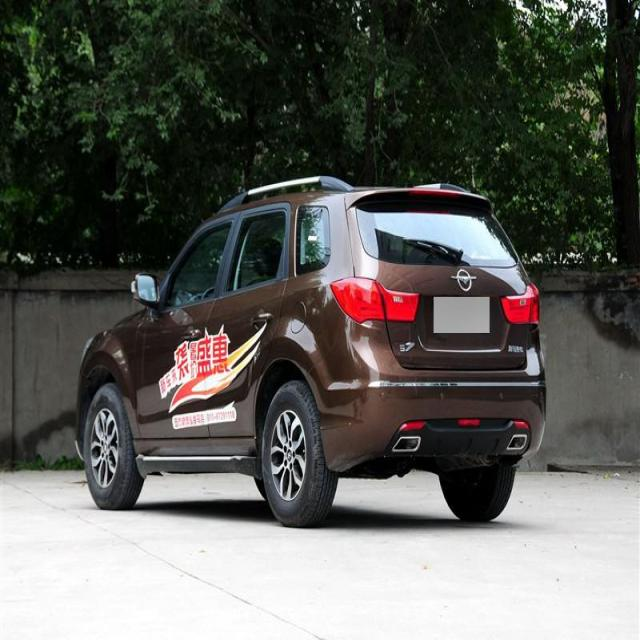back_glass: (354, 191, 520, 271)
back_left_side_light: (330, 275, 420, 325)
back_right_side_light: (500, 281, 542, 329)
door: (211, 205, 291, 443)
front_left_side_door: (136, 207, 242, 440)
front_left_side_light: (79, 333, 96, 372)
front_left_side_mirror: (130, 266, 159, 307)
rear_bumper: (305, 315, 548, 472)
wheel: (260, 381, 338, 527), (84, 382, 142, 510), (438, 458, 516, 522)
